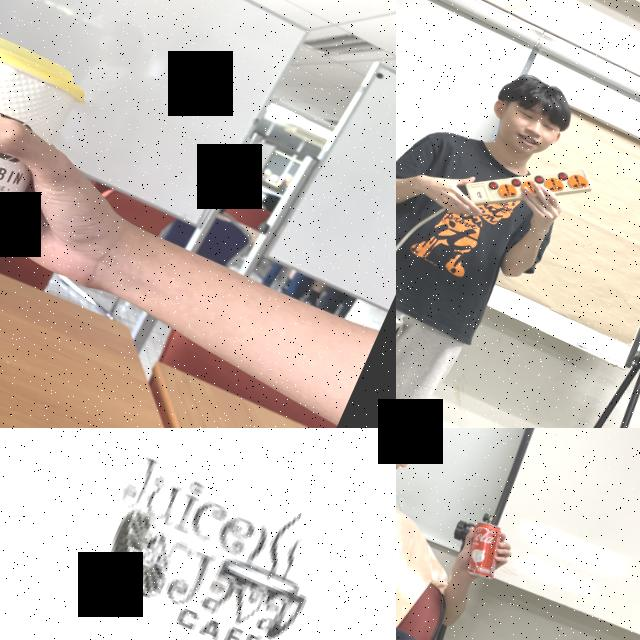can: (454, 517, 516, 586)
cup: (0, 428, 396, 640), (0, 3, 101, 259)
